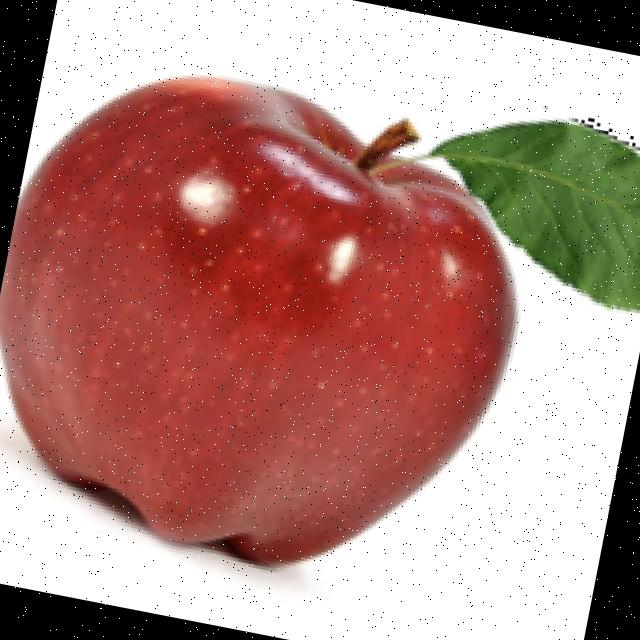apple: (0, 70, 640, 597)
